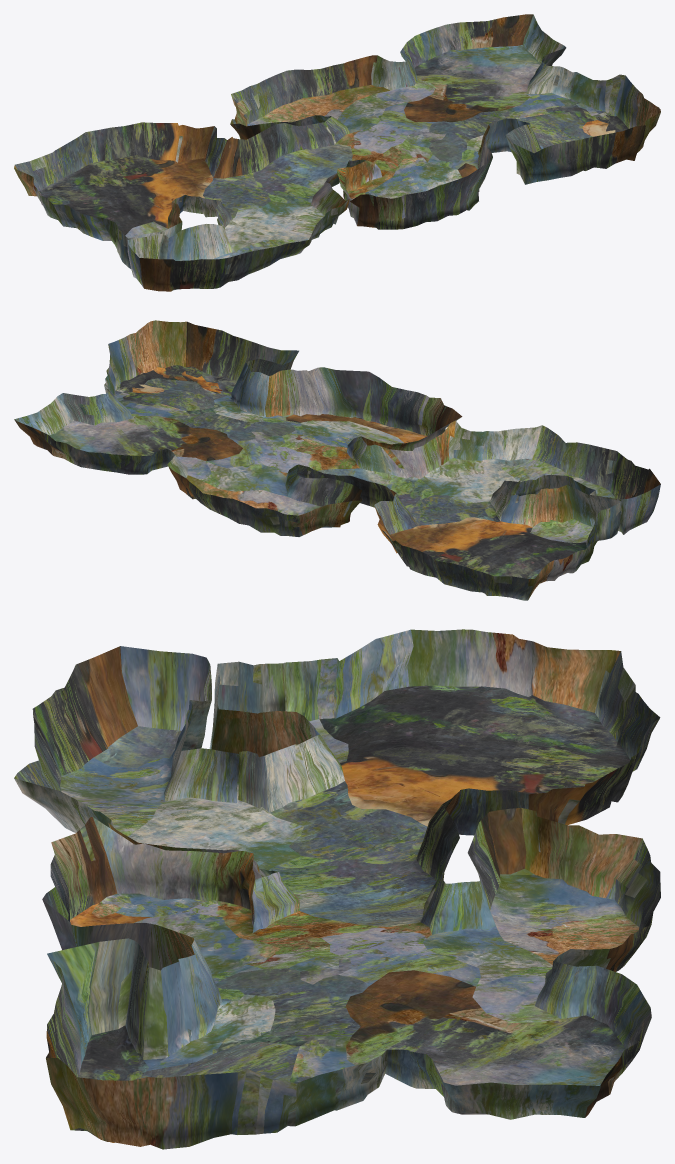
File: suelo2.glb
3 renders of one model, top to bottom at view 1: azimuth 30°, elevation 25°; view 2: azimuth 150°, elevation 25°; view 3: azimuth 270°, elevation 25°, orthographic. The views are drawn at different scales.
Parts seen in each view (by area): view 1: suelo-col; view 2: suelo-col; view 3: suelo-col.
Boxes of the visible parts, x1,y1,x2,y2 form: suelo-col: [14, 14, 660, 291]; suelo-col: [14, 320, 660, 600]; suelo-col: [14, 629, 660, 1149].
Size of the model in its own units: 291 by 38.67 by 157.
Materials: 1 (1 with a texture image).
